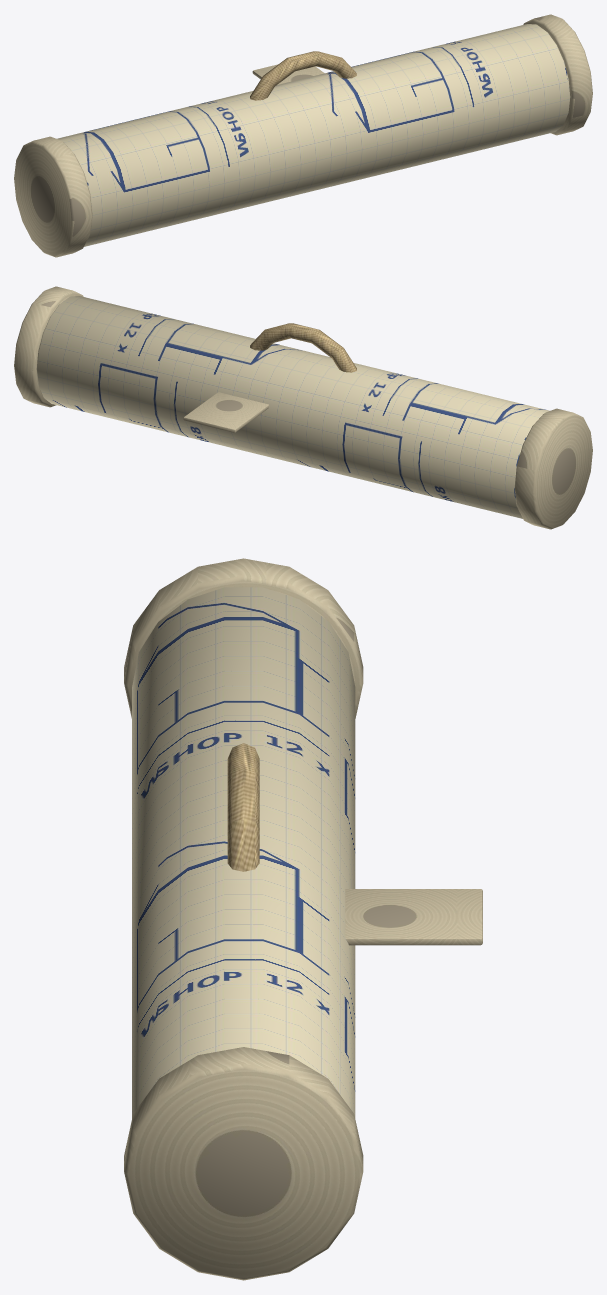
Rendered from building_plans_preview.glb.
3 renders of one model, top to bottom at view 1: azimuth 30°, elevation 25°; view 2: azimuth 150°, elevation 25°; view 3: azimuth 270°, elevation 25°, orthographic. The views are drawn at different scales.
Visible parts, largest first — view 1: building_plans; view 2: building_plans; view 3: building_plans.
Boxes of the visible parts, left/top/right/bottom form: building_plans: left=14, top=14, right=592, bottom=257; building_plans: left=14, top=286, right=592, bottom=529; building_plans: left=124, top=558, right=482, bottom=1280.
Bounding box in the file's own units: 0.302 × 0.0751 × 0.09.
3 materials, 3 textured.
